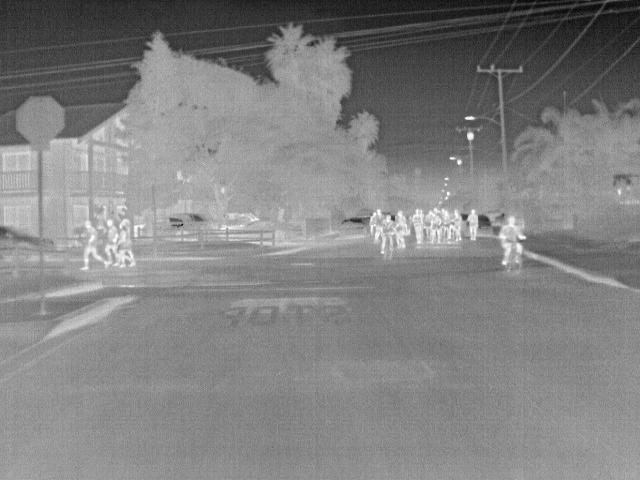car: (242, 220, 306, 242), (3, 223, 36, 252), (339, 216, 370, 238), (38, 237, 56, 252)
person: (79, 219, 111, 272), (496, 215, 528, 267), (116, 218, 139, 267), (104, 215, 122, 266), (376, 215, 400, 250), (412, 208, 426, 244), (451, 209, 466, 242), (467, 207, 480, 241), (425, 209, 437, 234)
